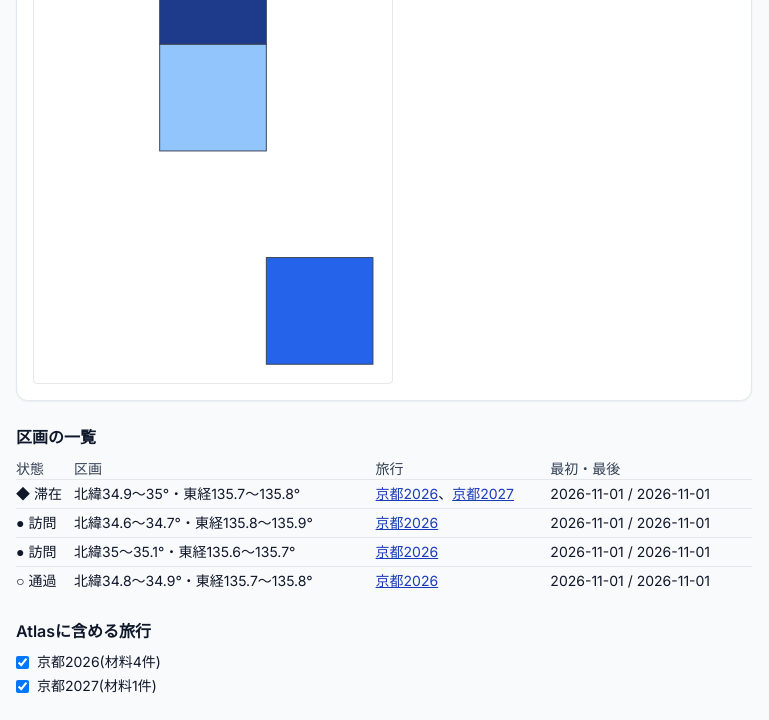
Test case: AtlasPage (Gate P15) › 旅行をAtlasから除く
(page scrolled)
What coordinates should you click on to do the following:
click the checkbox labelled "京都2027(材料1件)"
I would click on:
 (22, 686)
Its box is [16, 680, 29, 693].
(page scrolled)
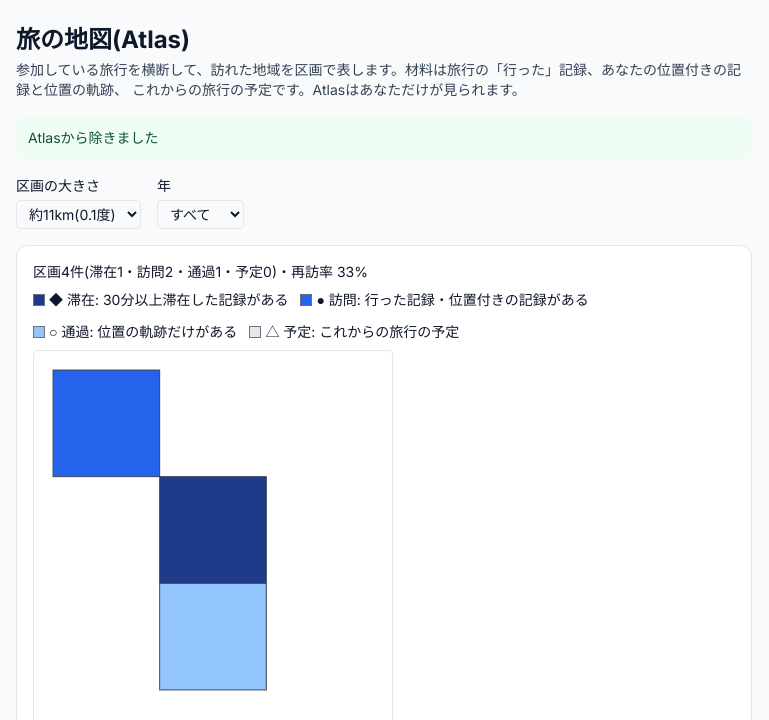
Check: the text "Atlasから除きました" is shown, box [16, 116, 752, 160]
